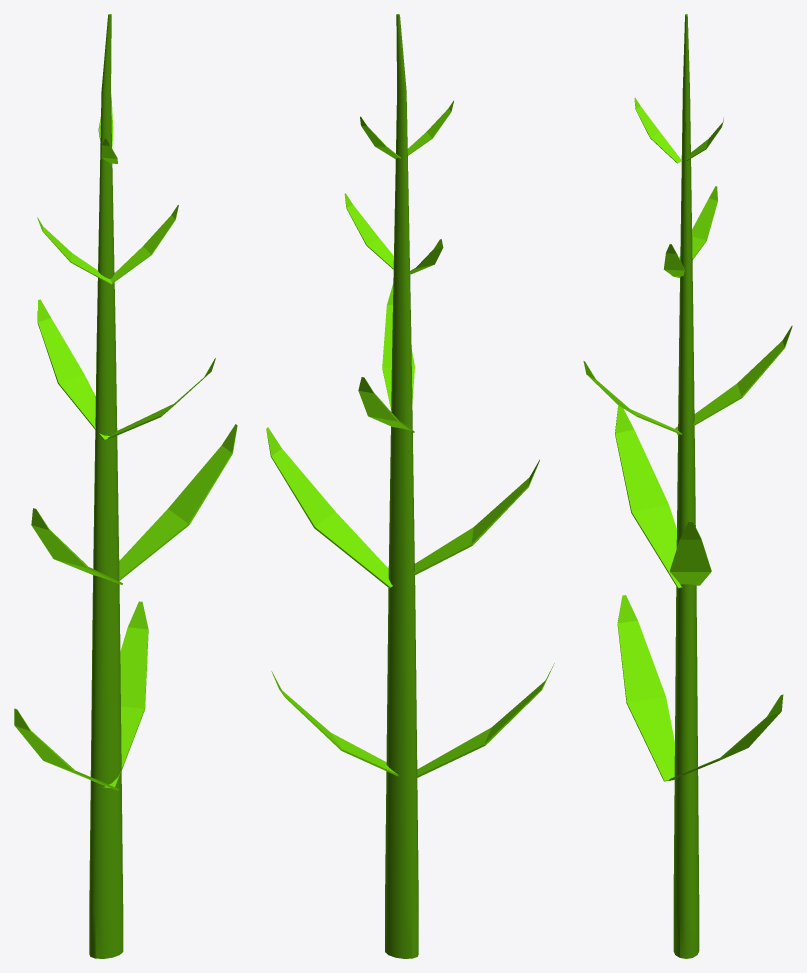
Rendered from Corn3.fbx.
The picture shows the model from 3 angles, left to right: view 1: azimuth 30°, elevation 25°; view 2: azimuth 150°, elevation 25°; view 3: azimuth 270°, elevation 25°; orthographic projection.
Parts seen in each view (by area): view 1: Cylinder.001; view 2: Cylinder.001; view 3: Cylinder.001.
Part boxes in pixels (<box>): Cylinder.001: <box>14,14,237,958</box>; Cylinder.001: <box>266,14,554,958</box>; Cylinder.001: <box>583,14,792,958</box>.
Size of the model in its own units: 11.85 by 41.67 by 8.42.
